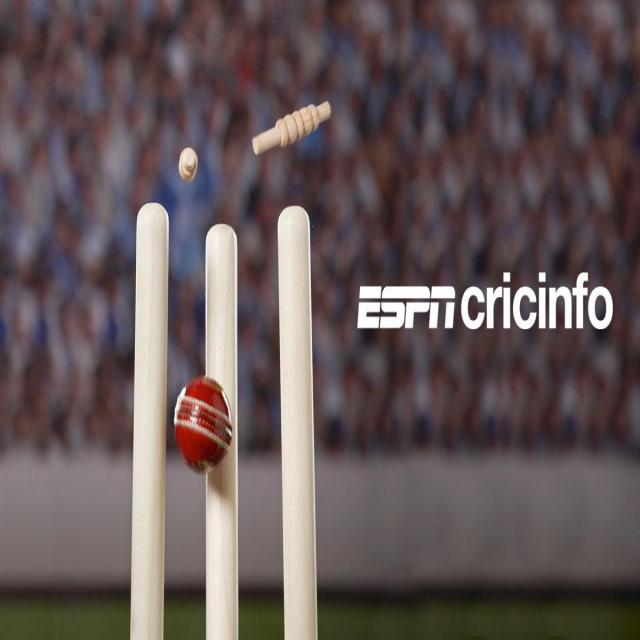ball: (175, 378, 234, 472)
